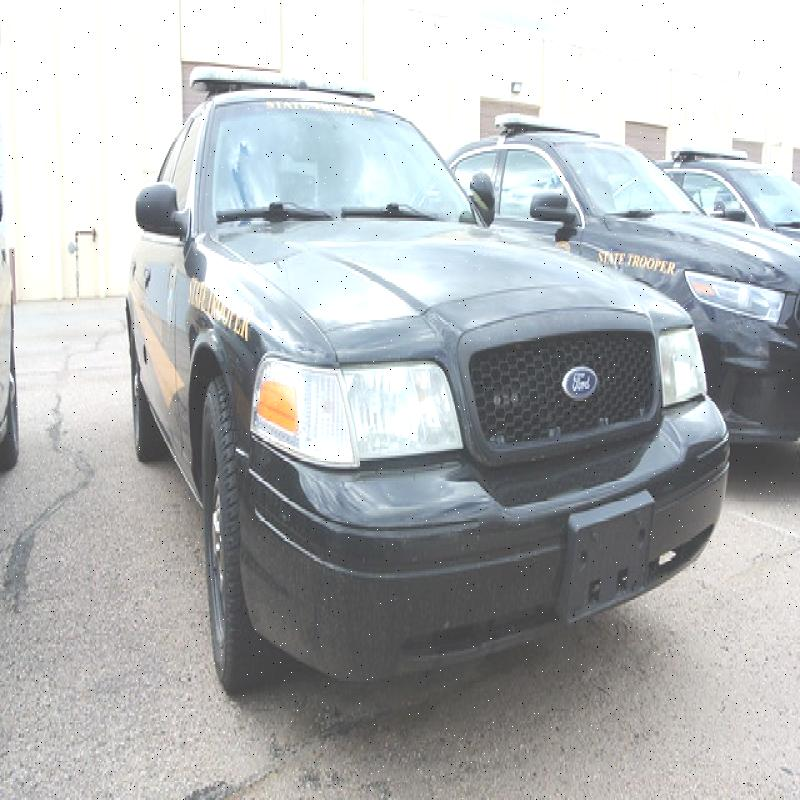AmbulanceSiren: (182, 45, 392, 106), (668, 122, 759, 168), (493, 110, 598, 134)
